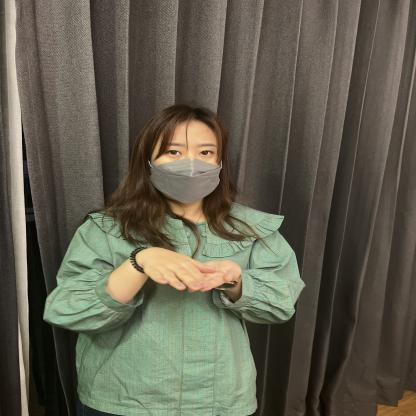Love: (19, 205, 332, 353)
